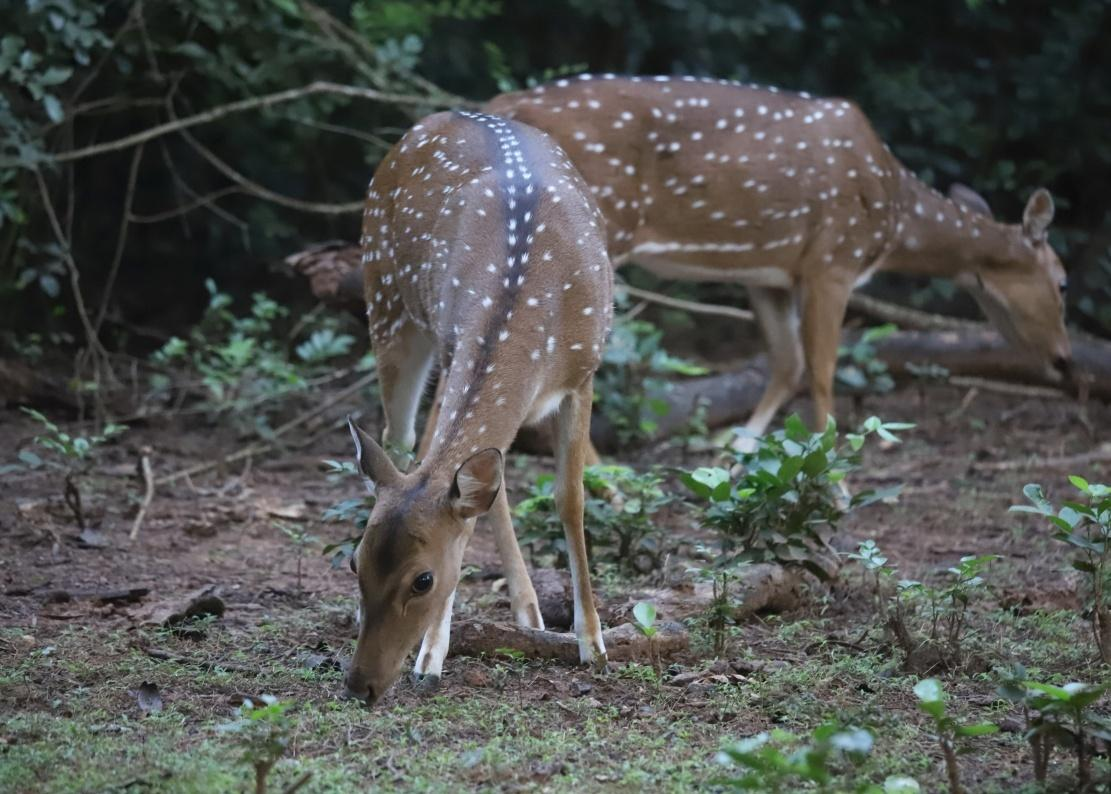Deer: (486, 75, 1073, 435), (346, 112, 612, 701)
